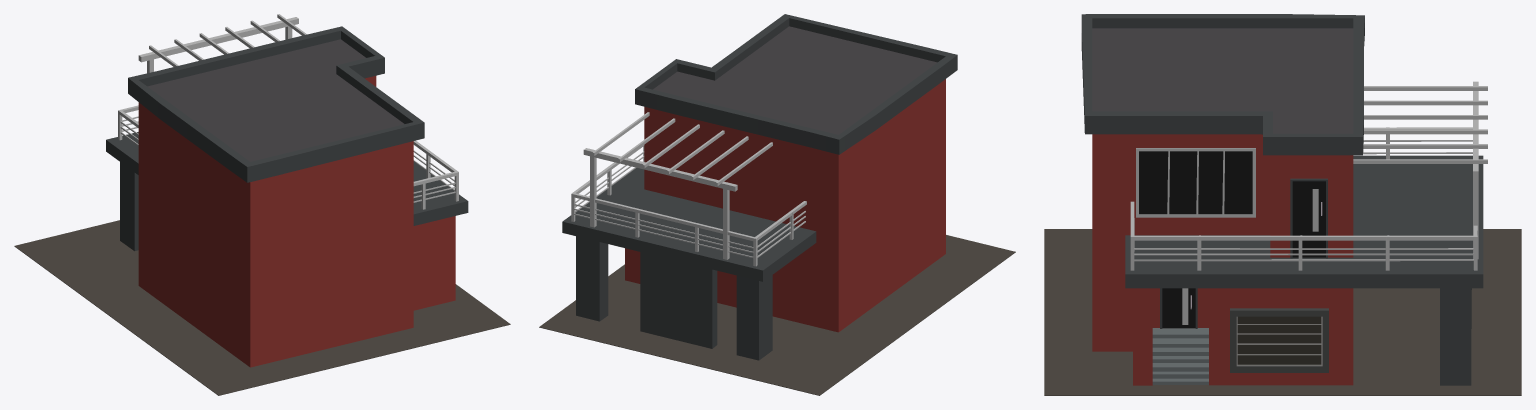
Rendered from Building_House2_Red.fbx.
3 renders of one model, left to right at view 1: azimuth 30°, elevation 25°; view 2: azimuth 150°, elevation 25°; view 3: azimuth 270°, elevation 25°, orthographic. The views are drawn at different scales.
Visible parts, largest first — view 1: Cube, Plane; view 2: Cube, Plane; view 3: Cube, Plane, Plane.001.
Part boxes in pixels (x1,y1,x2,y2): Cube: (106, 14, 468, 367); Plane: (14, 220, 510, 395); Cube: (562, 14, 957, 360); Plane: (539, 235, 1015, 395); Cube: (1081, 14, 1487, 385); Plane: (1044, 229, 1521, 395); Plane.001: (1230, 308, 1328, 372).
Size of the model in its own units: 1100 by 743 by 1333.
